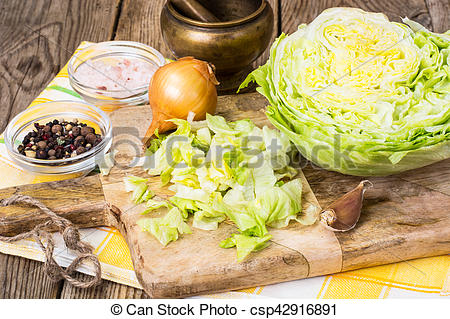chopped lettuce: (153, 27, 450, 217)
